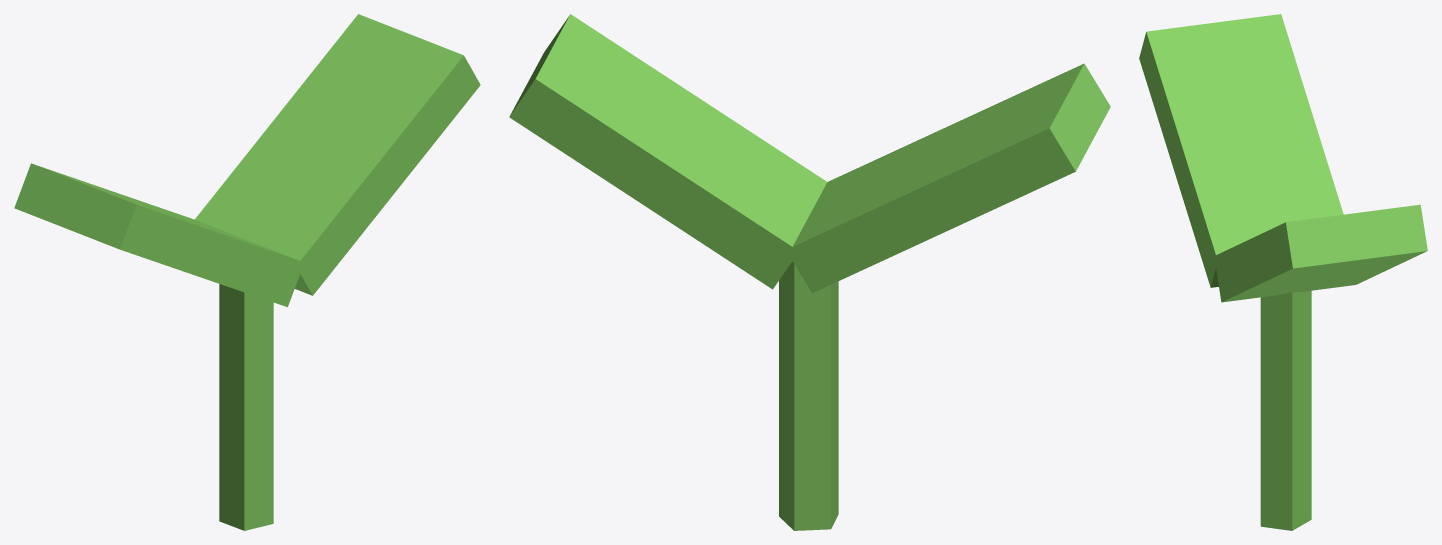
The model's file is crop_1.glb.
3 renders of one model, left to right at view 1: azimuth 30°, elevation 25°; view 2: azimuth 150°, elevation 25°; view 3: azimuth 270°, elevation 25°, orthographic. The views are drawn at different scales.
Parts seen in each view (by area): view 1: Crop; view 2: Crop; view 3: Crop.
Boxes of the visible parts, x1=… form: Crop: x1=14, y1=14, x2=480, y2=530; Crop: x1=509, y1=14, x2=1110, y2=530; Crop: x1=1139, y1=14, x2=1427, y2=530.
Size of the model in its own units: 0.229 by 0.1882 by 0.1227.
